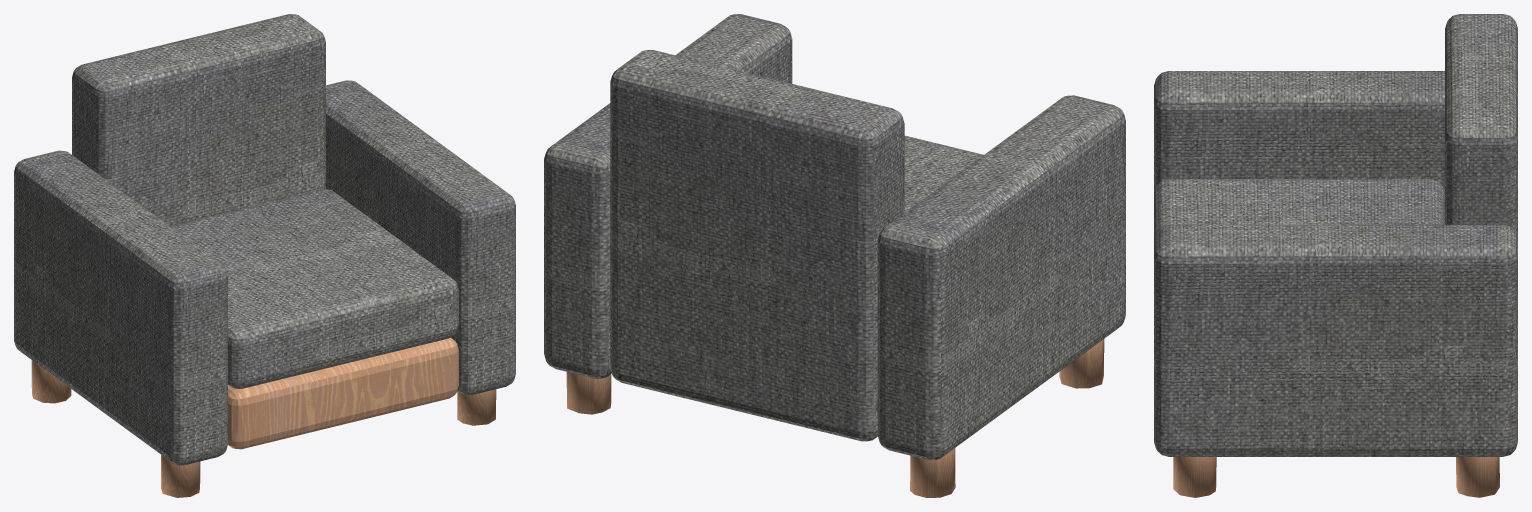
The model's file is single_sofa.dae.
The picture shows the model from 3 angles, left to right: view 1: azimuth 30°, elevation 25°; view 2: azimuth 150°, elevation 25°; view 3: azimuth 270°, elevation 25°; orthographic projection. The views are drawn at different scales.
Visible parts, largest first — view 1: Cube.001, Cube.003, Cube.002, Cube, Cube.005, Legs; view 2: Cube.003, Cube.001, Cube, Legs, Cube.002; view 3: Cube, Cube.001, Cube.003, Cube.002, Legs.
Boxes of the visible parts, bbox=[...] form: Cube.001: bbox=[14, 150, 227, 465]; Cube.003: bbox=[72, 14, 325, 226]; Cube.002: bbox=[170, 189, 458, 388]; Cube: bbox=[326, 80, 515, 395]; Cube.005: bbox=[228, 337, 458, 449]; Legs: bbox=[31, 360, 496, 497]; Cube.003: bbox=[610, 50, 904, 441]; Cube.001: bbox=[877, 95, 1125, 460]; Cube: bbox=[544, 14, 792, 378]; Legs: bbox=[566, 339, 1104, 497]; Cube.002: bbox=[904, 135, 983, 212]; Cube: bbox=[1154, 224, 1517, 456]; Cube.001: bbox=[1154, 71, 1444, 192]; Cube.003: bbox=[1445, 14, 1517, 238]; Cube.002: bbox=[1154, 179, 1444, 238]; Legs: bbox=[1173, 457, 1499, 497].
Size of the model in its own units: 0.9 by 0.75 by 0.7725.
